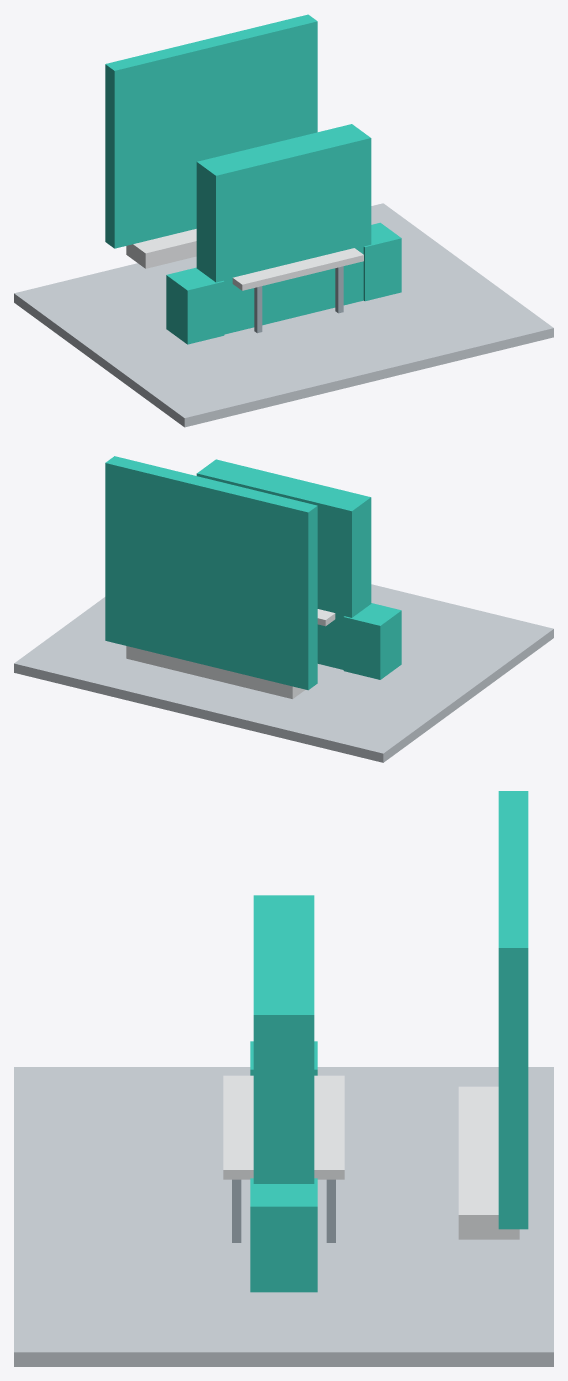
3 views of the same model, one above another, from view 1: azimuth 30°, elevation 25°; view 2: azimuth 150°, elevation 25°; view 3: azimuth 270°, elevation 25° (orthographic). The views are drawn at different scales.
Visible parts, largest first — view 1: Exhibition Booth Concept; view 2: Exhibition Booth Concept; view 3: Exhibition Booth Concept.
Boxes of the visible parts, x1,y1,x2,y2 form: Exhibition Booth Concept: (14,14,553,427); Exhibition Booth Concept: (14,456,553,762); Exhibition Booth Concept: (14,791,553,1366).
Bounding box in the file's own units: 5 × 2.9 × 4.
